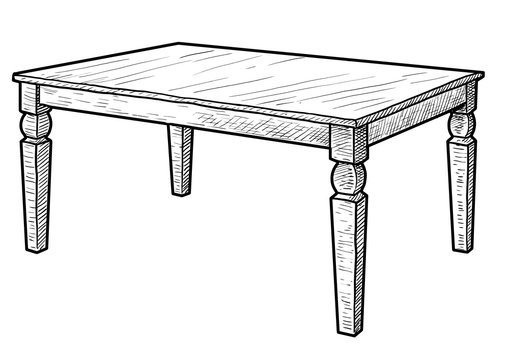table_legs: (327, 160, 370, 339), (17, 109, 55, 256), (445, 110, 479, 256), (166, 123, 196, 199)
table_support: (18, 76, 480, 168)
table_top: (10, 40, 487, 130)
